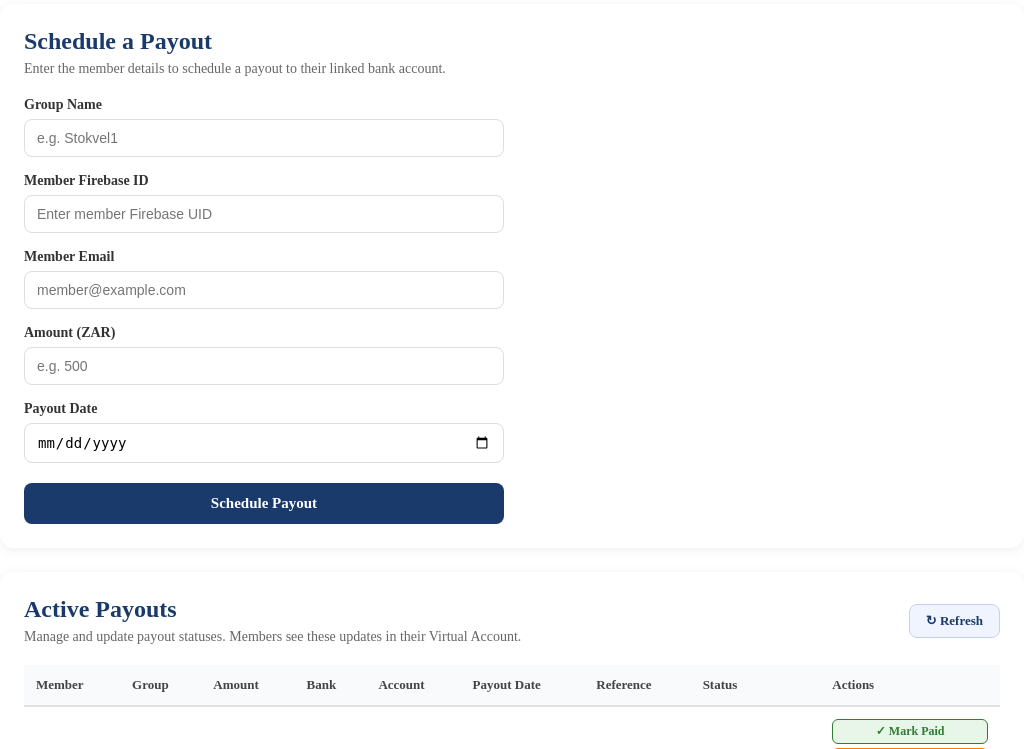
Scenario: Schedule Payout Component › handles status update actions and resolved states
Click the button "✓ Mark Paid".
click(910, 732)  # box top-left (832, 719), bottom-right (988, 744)
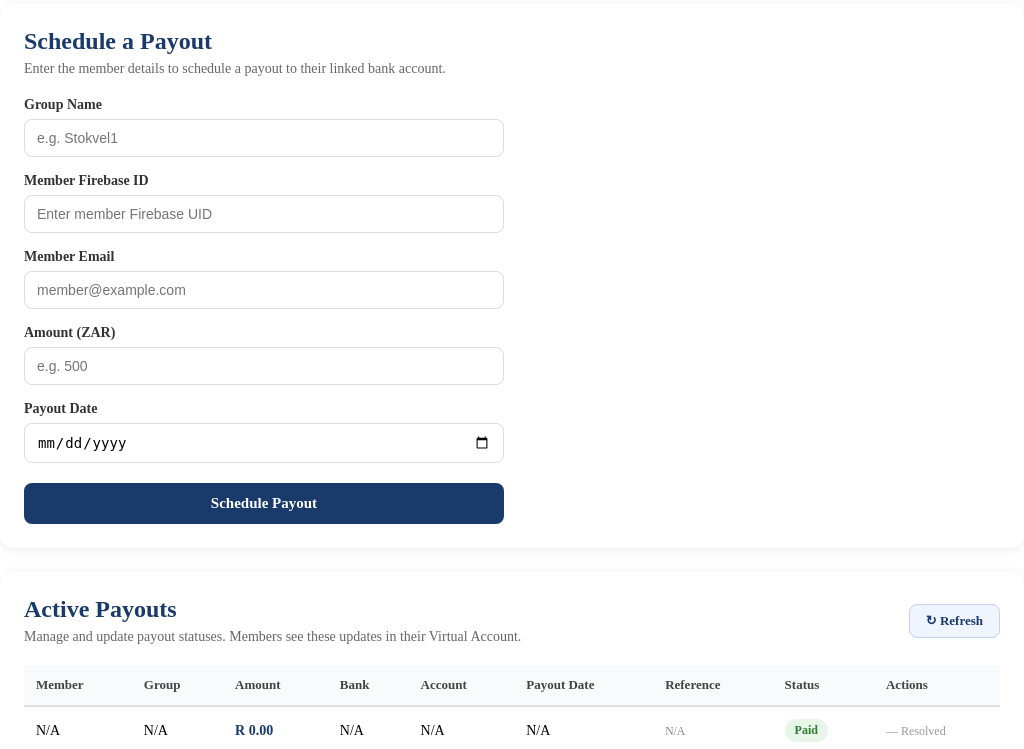
Check: the text "— Resolved" is shown, box top-left (886, 724), bottom-right (946, 738)
